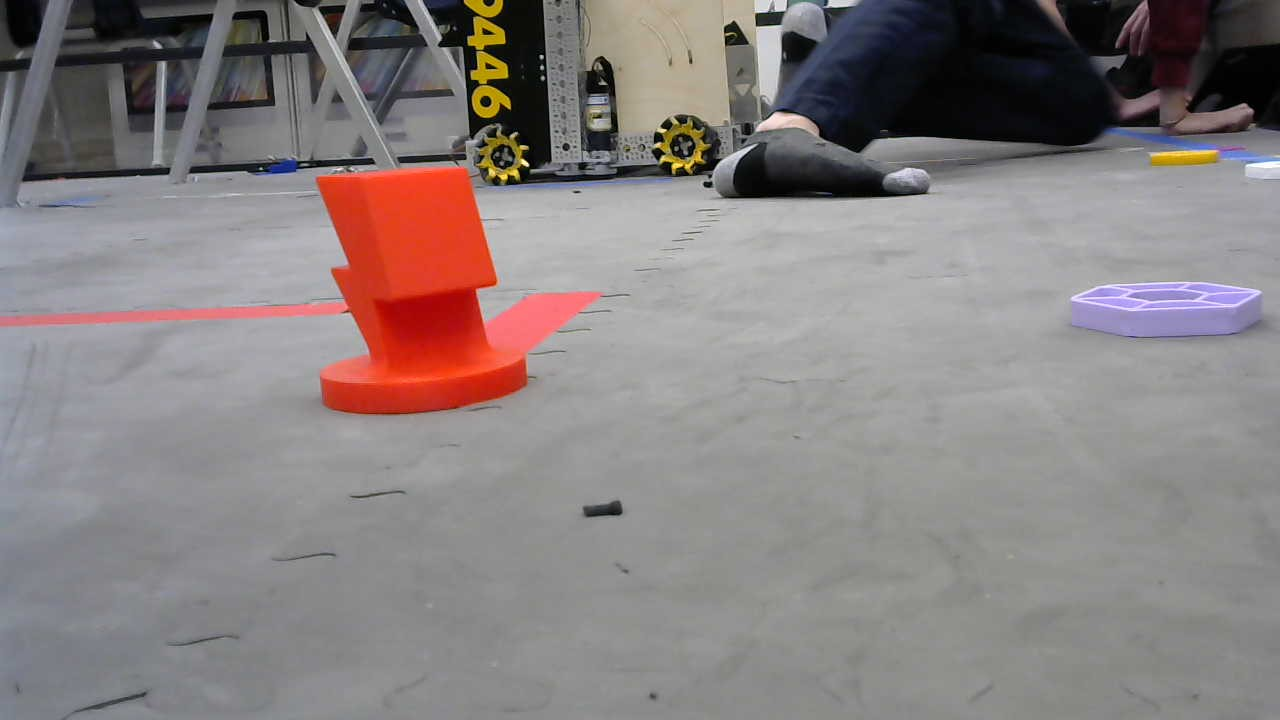redobject: (320, 166, 531, 413)
